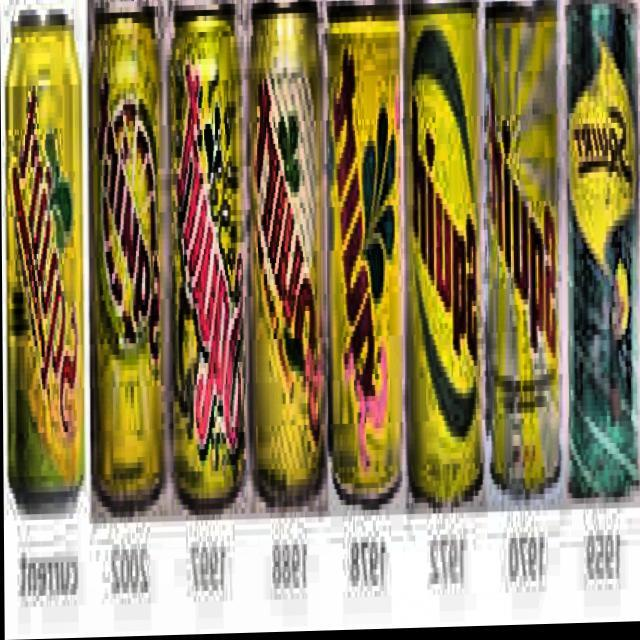can: (0, 0, 83, 544), (323, 0, 406, 516), (85, 0, 166, 527), (245, 0, 327, 513), (401, 0, 483, 513), (167, 6, 246, 524), (560, 0, 640, 505), (485, 0, 560, 512)
